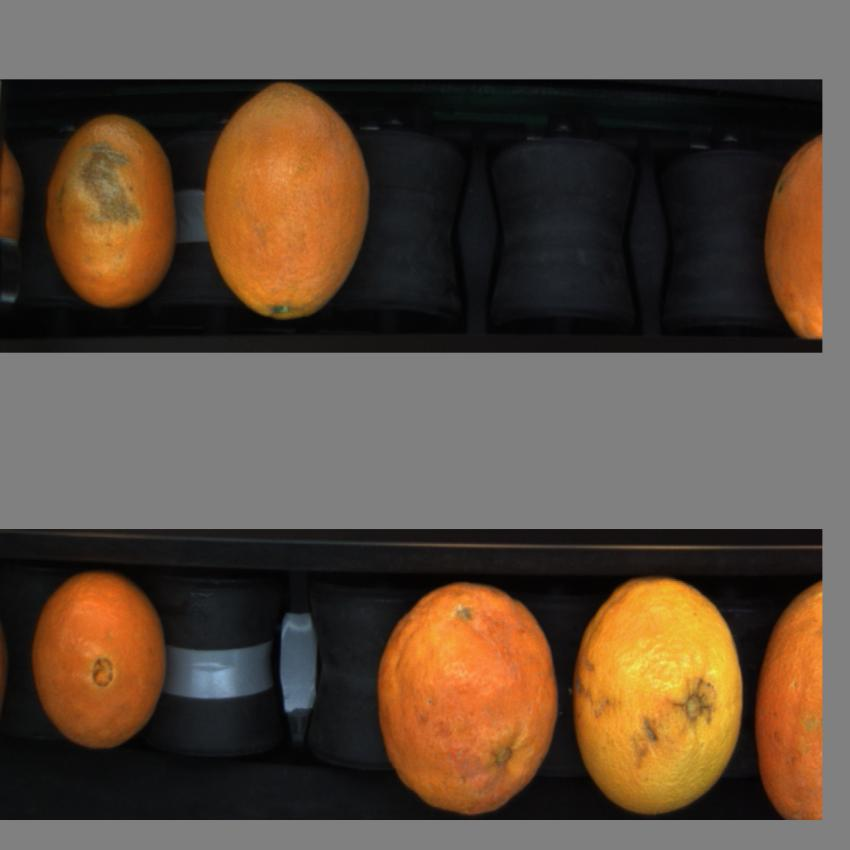Buen estado: (198, 79, 380, 324), (572, 582, 748, 814), (756, 581, 824, 821), (762, 125, 825, 340)
Mal estado: (369, 577, 563, 814), (40, 107, 178, 316), (26, 566, 173, 760)
